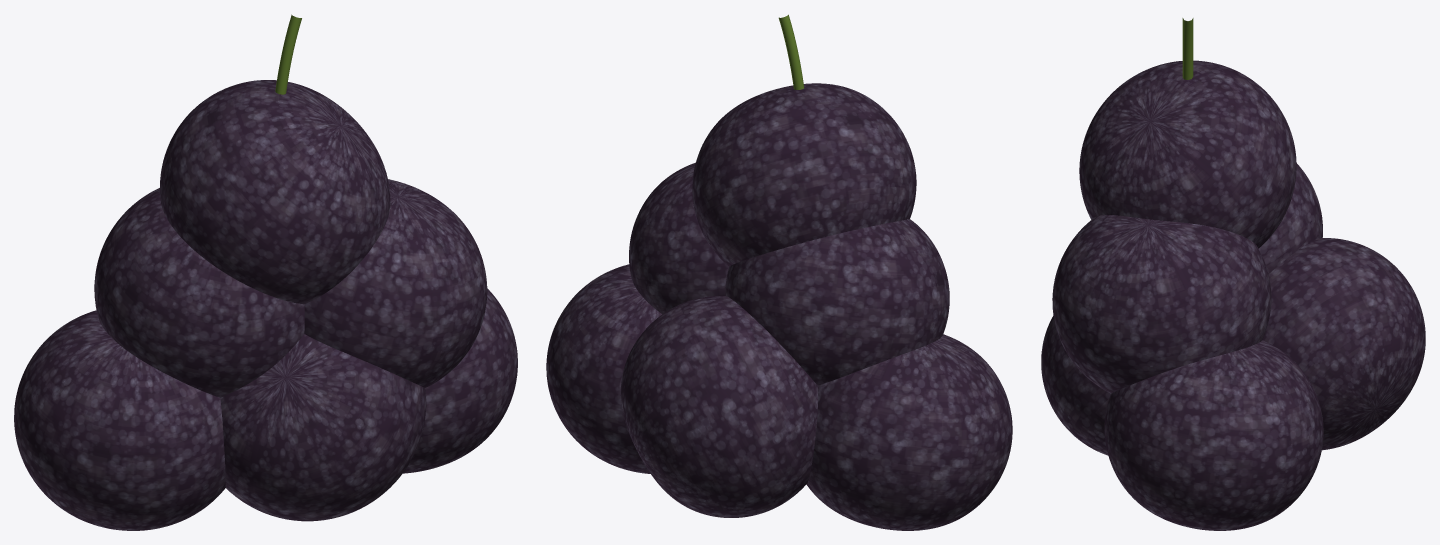
Rendered from blackcurrant.glb.
3 views of the same model, side by side, from view 1: azimuth 30°, elevation 25°; view 2: azimuth 150°, elevation 25°; view 3: azimuth 270°, elevation 25° (orthographic). The views are drawn at different scales.
Bounding box in the file's own units: 0.1538 × 0.1531 × 0.1187.
Materials: 2 (1 with a texture image).
